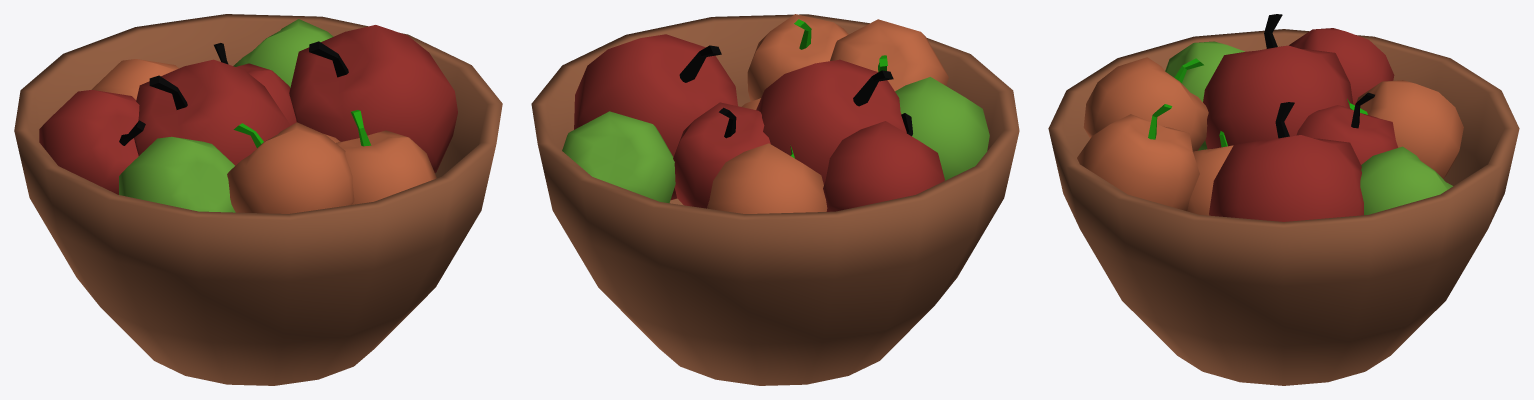
File: bowl.glb
3 views of the same model, side by side, from view 1: azimuth 30°, elevation 25°; view 2: azimuth 150°, elevation 25°; view 3: azimuth 270°, elevation 25° (orthographic). The views are drawn at different scales.
Parts seen in each view (by area): view 1: Cube.005; view 2: Cube.005; view 3: Cube.005.
Part boxes in pixels (x1=…): Cube.005: x1=14, y1=14, x2=502, y2=385; Cube.005: x1=531, y1=14, x2=1019, y2=385; Cube.005: x1=1048, y1=14, x2=1519, y2=385.
Bounding box in the file's own units: 4.88 × 3.15 × 4.88.
